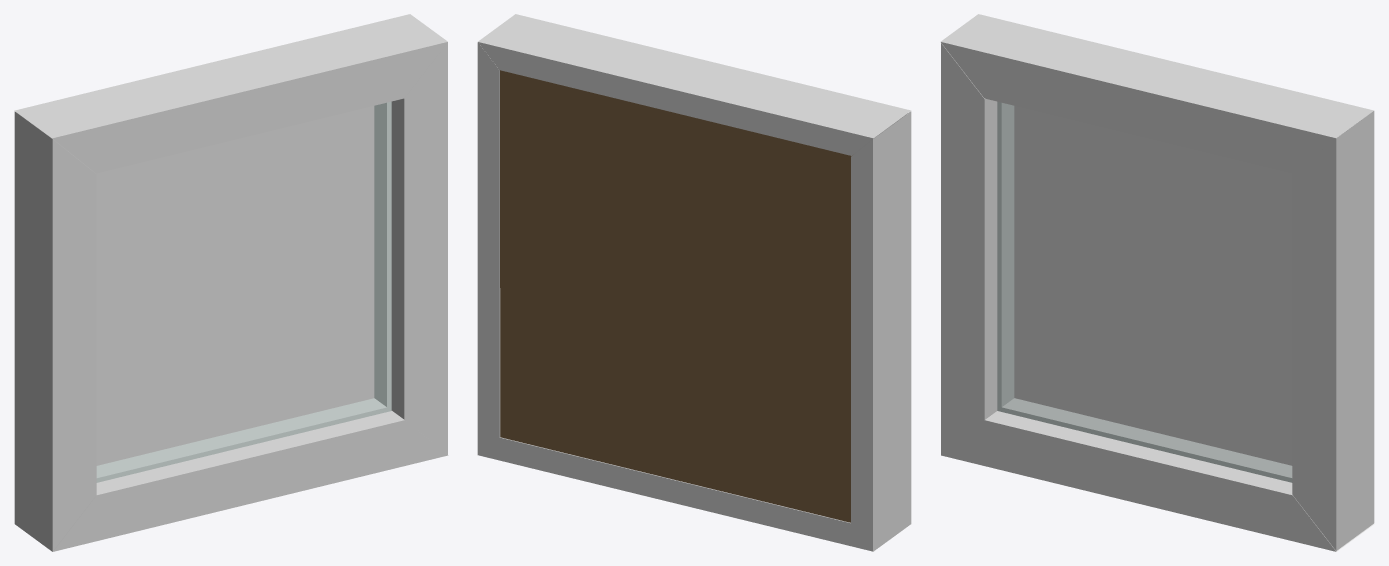
The model's file is cuadroBox.glb.
3 views of the same model, side by side, from view 1: azimuth 30°, elevation 25°; view 2: azimuth 150°, elevation 25°; view 3: azimuth 330°, elevation 25° (orthographic).
Parts seen in each view (by area): view 1: vidrio, imagen, liston.008, liston.006, liston.007, liston.005, Cube, Cube.002; view 2: tapa, liston.008, liston.006, liston.007, liston.005; view 3: vidrio, imagen, liston.007, liston.006, liston.008, liston.005, Cube.001, Cube.002.
Boxes of the visible parts, x1,y1,x2,y2 form: vidrio: [96, 102, 391, 482]; imagen: [95, 106, 374, 465]; liston.008: [14, 111, 96, 551]; liston.006: [14, 14, 447, 173]; liston.007: [391, 42, 447, 454]; liston.005: [53, 411, 448, 551]; Cube: [374, 102, 391, 411]; Cube.002: [96, 398, 386, 482]; tapa: [500, 70, 852, 522]; liston.008: [851, 111, 911, 551]; liston.006: [478, 14, 911, 155]; liston.007: [477, 42, 500, 454]; liston.005: [478, 437, 872, 551]; vidrio: [997, 102, 1291, 482]; imagen: [1014, 106, 1292, 465]; liston.007: [1292, 111, 1374, 550]; liston.006: [940, 14, 1373, 173]; liston.008: [941, 43, 997, 454]; liston.005: [941, 411, 1374, 551]; Cube.001: [997, 102, 1014, 411]; Cube.002: [998, 398, 1292, 482].
Bounding box in the file's own units: 1.81 × 1.8 × 0.3017.
